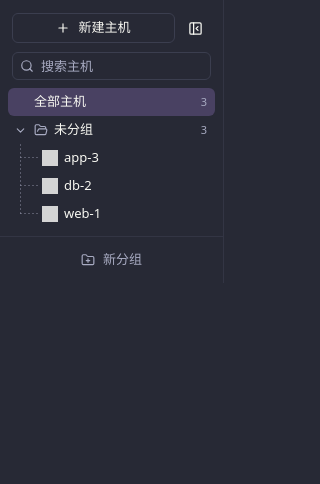
Test: 终端界面主机树的属性面板 › 有跳板机 / 指定代理时多出对应的行，显示名字
The width and height of the screenshot is (320, 484).
Click the button "app-3" at x=112, y=158, box left=8, top=144, right=215, bottom=172
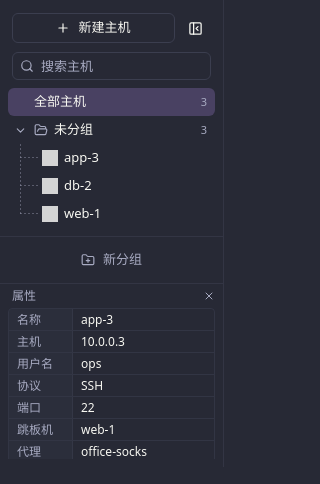
expect the element named "主机属性" shows "跳板机": met, box left=17, top=420, right=53, bottom=438
expect the element named "主机属性" shows "web-1": met, box left=81, top=420, right=115, bottom=438
expect the element named "主机属性" shows "代理": met, box left=17, top=443, right=41, bottom=460
